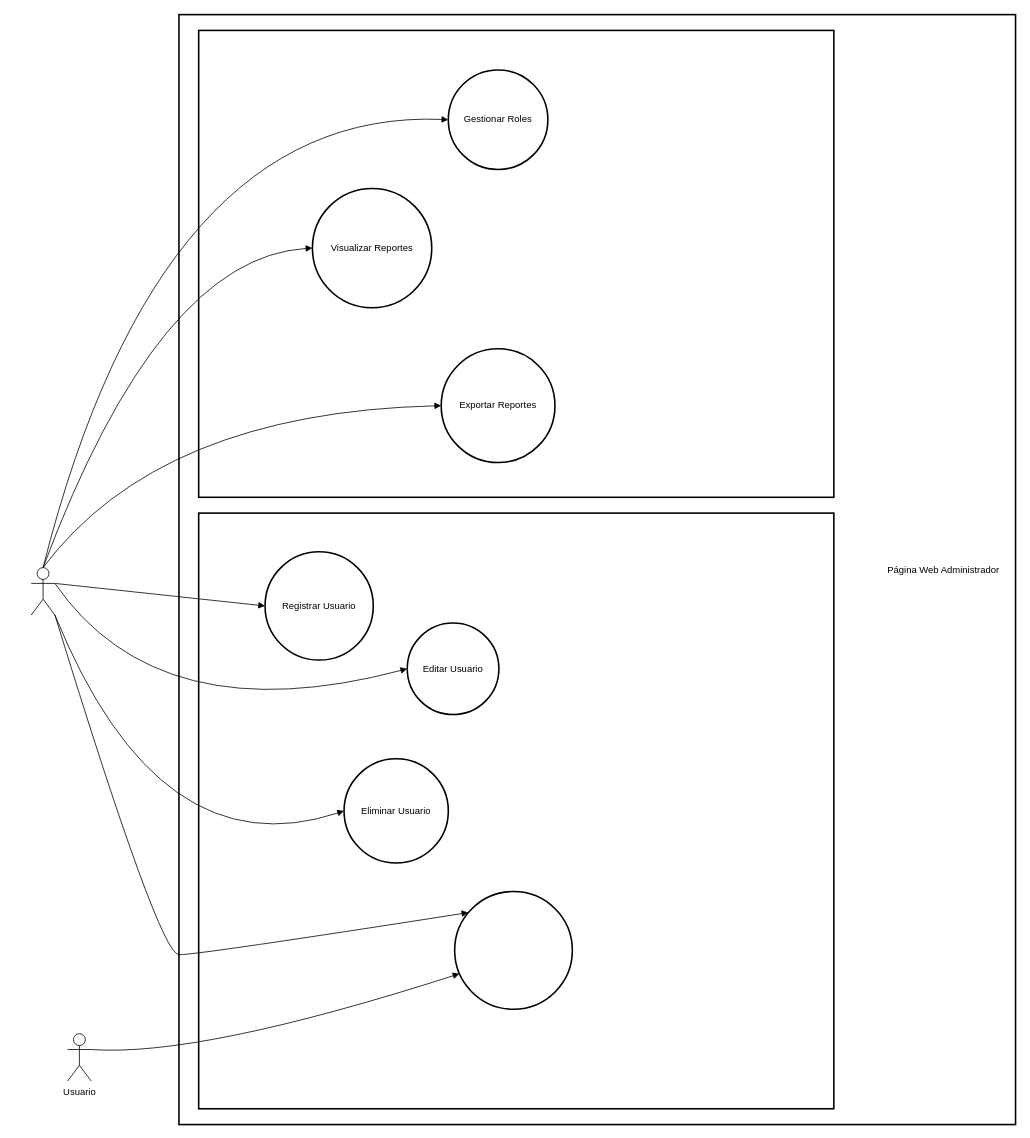
This 1030x1138 diagram has some shape labels left out. The box of each missing label's shape, as (x1, y1, x2, y2) in pixels:
Administrador: (30, 567, 55, 615)
Autenticar Usuario: (453, 890, 573, 1010)
Gestión de Usuarios: (198, 512, 834, 1109)
Roles y Reportes: (198, 29, 834, 498)
